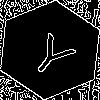Y: (25, 25, 84, 81)
